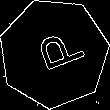P_W: (24, 27, 84, 79)
